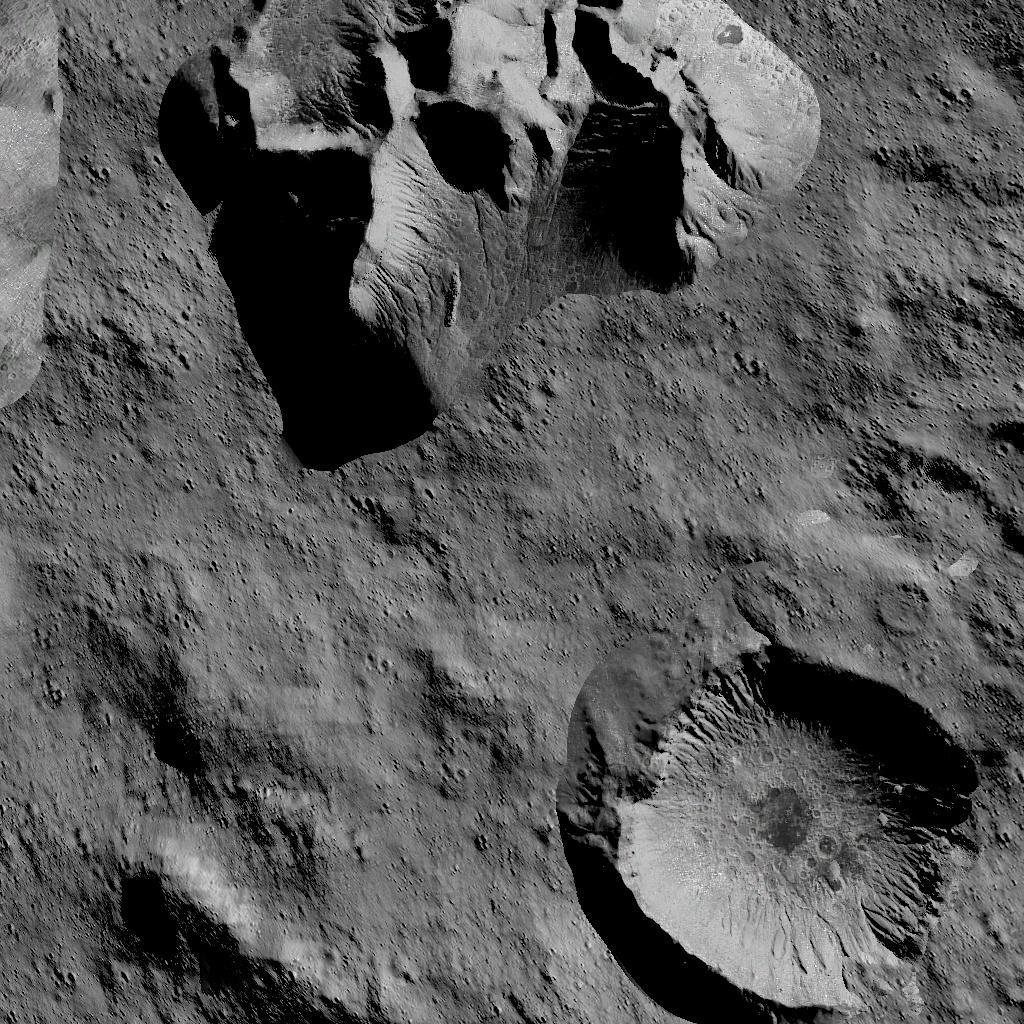Boulders: (157, 0, 825, 461), (112, 832, 408, 1024), (0, 0, 65, 421)
Crater: (553, 614, 1006, 1024), (132, 700, 224, 783)
Plan surface: (240, 470, 536, 815), (841, 0, 1024, 354), (556, 470, 868, 606), (8, 472, 220, 671)
